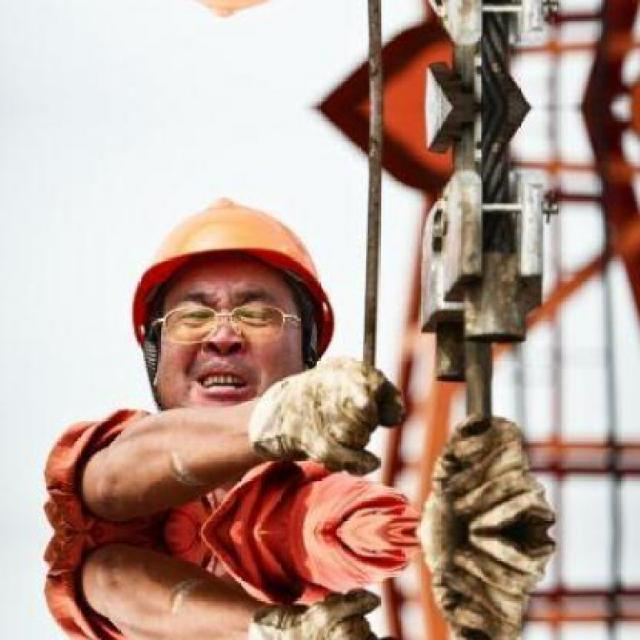Helmet: (106, 160, 357, 442)
